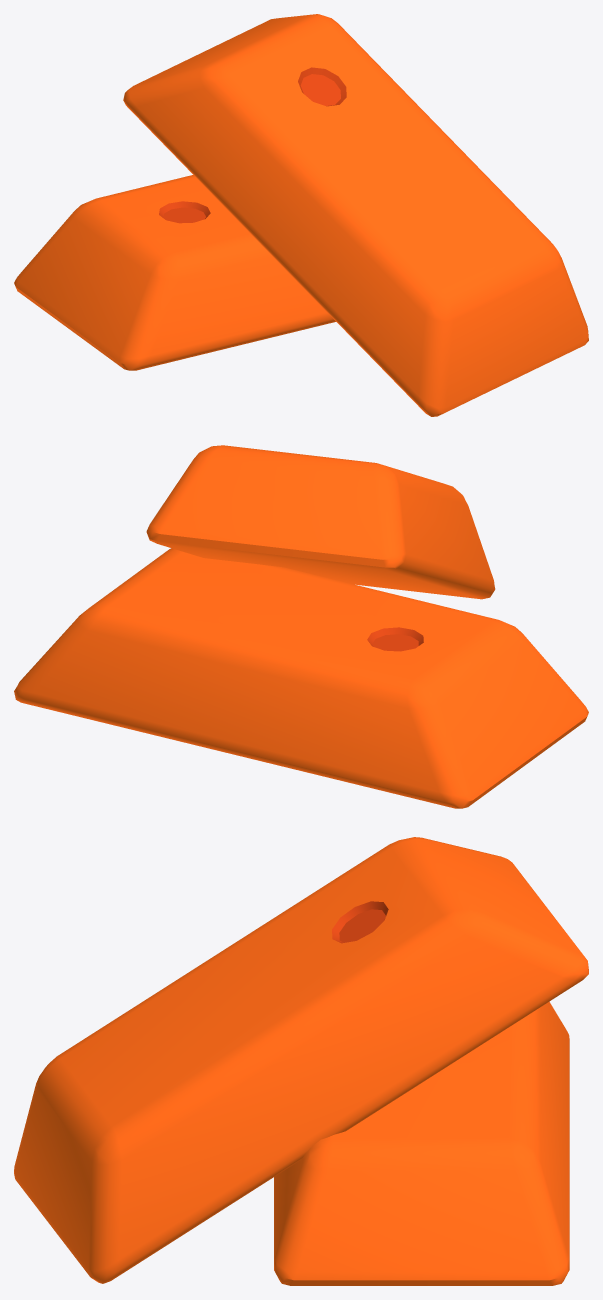
The model's file is Gold.fbx.
3 views of the same model, one above another, from view 1: azimuth 30°, elevation 25°; view 2: azimuth 150°, elevation 25°; view 3: azimuth 270°, elevation 25° (orthographic). The views are drawn at different scales.
Visible parts, largest first — view 1: Cube_4, Cube_3; view 2: Cube_3, Cube_4; view 3: Cube_4, Cube_3.
Part boxes in pixels (<box>): Cube_4: <box>123,14,588,416</box>; Cube_3: <box>14,175,335,370</box>; Cube_3: <box>14,548,588,808</box>; Cube_4: <box>146,445,495,599</box>; Cube_4: <box>14,837,588,1283</box>; Cube_3: <box>274,1001,569,1285</box>.
Size of the model in its own units: 159 by 91.92 by 155.
